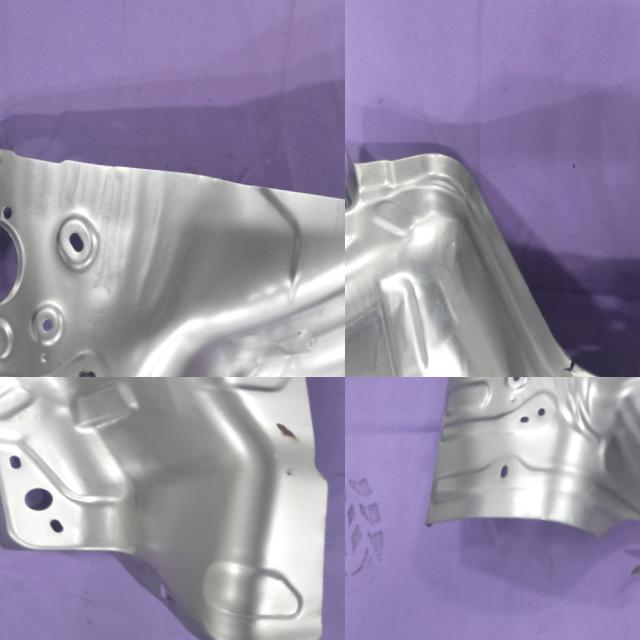Defect: (589, 510, 640, 574), (546, 343, 581, 377)
Healthy: (0, 377, 345, 640), (0, 139, 345, 377)
